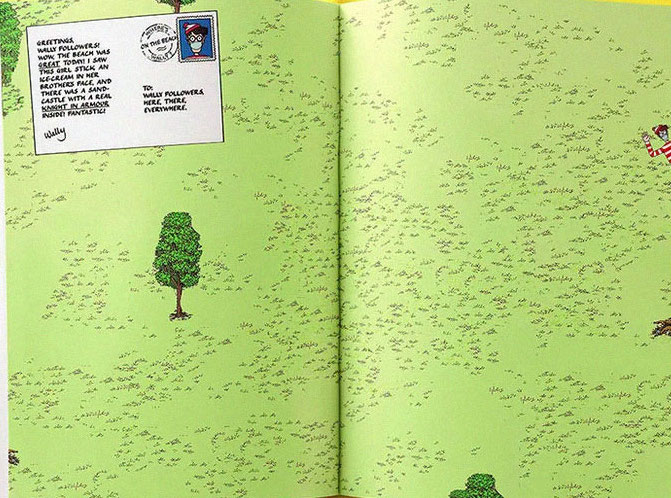Waldo: (181, 21, 211, 59), (644, 122, 671, 154)
